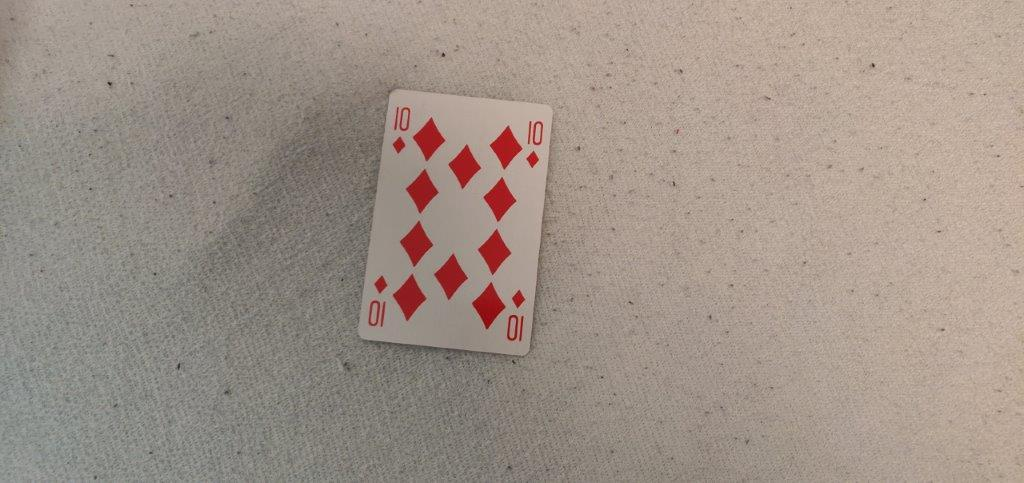10D: (388, 99, 413, 155), (523, 117, 545, 170)
